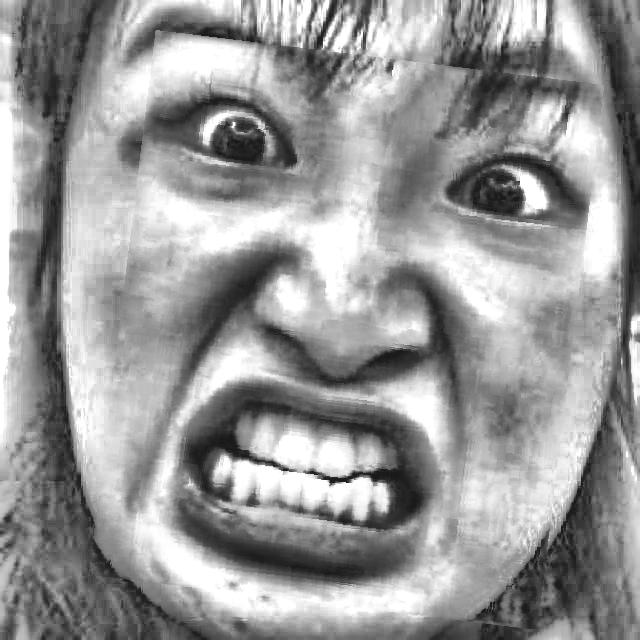angry: (105, 43, 589, 616)
